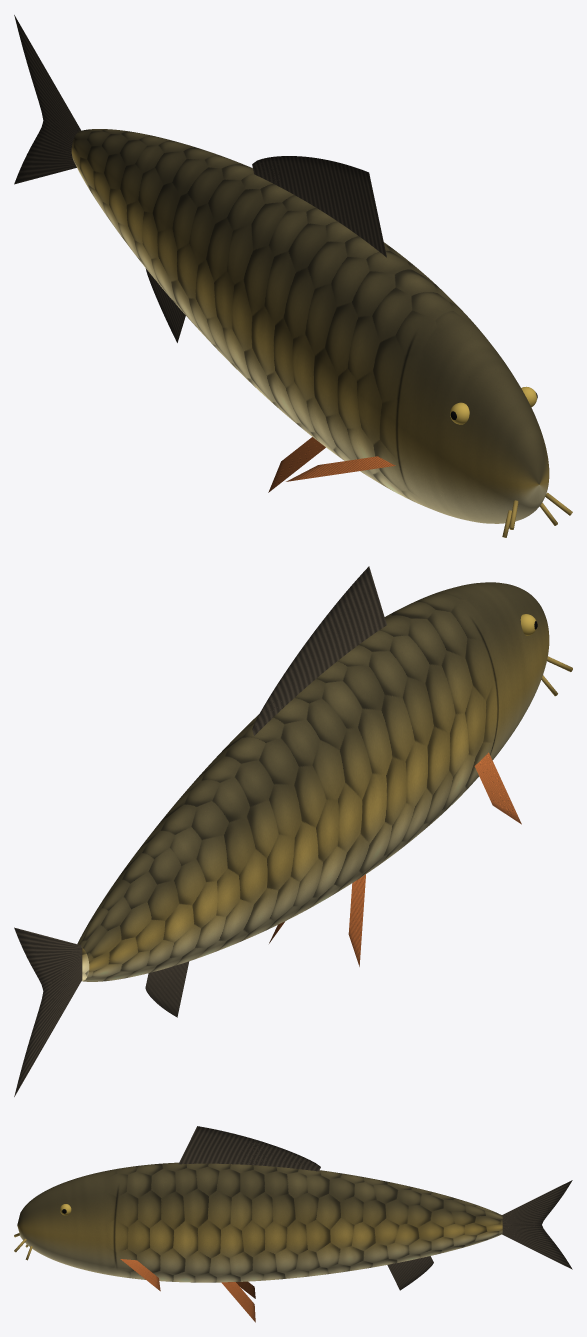
File: sazan.obj
The picture shows the model from 3 angles, top to bottom: view 1: azimuth 30°, elevation 25°; view 2: azimuth 150°, elevation 25°; view 3: azimuth 270°, elevation 25°; orthographic projection. The views are drawn at different scales.
Parts seen in each view (by area): view 1: body, fin_dorsal0, fin_tail, fin_pect_R, fin_pelv_R, fin_anal0; view 2: body, fin_dorsal0, fin_tail, fin_anal0, fin_pect_R, fin_pelv_R; view 3: body, fin_dorsal0, fin_tail, fin_anal0, fin_pelv_L, fin_pect_L.
Part boxes in pixels (x1,y1,x2,y2): body: (71, 129, 549, 523); fin_dorsal0: (252, 156, 386, 257); fin_tail: (14, 15, 80, 184); fin_pect_R: (286, 456, 395, 481); fin_pelv_R: (268, 437, 325, 492); fin_anal0: (145, 268, 185, 342); body: (77, 582, 549, 981); fin_dorsal0: (252, 566, 386, 735); fin_tail: (14, 927, 82, 1096); fin_anal0: (145, 961, 189, 1017); fin_pect_R: (474, 752, 521, 824); fin_pelv_R: (348, 874, 365, 966); body: (17, 1162, 502, 1282); fin_dorsal0: (178, 1126, 320, 1171); fin_tail: (502, 1180, 572, 1269); fin_anal0: (387, 1256, 433, 1290); fin_pelv_L: (221, 1282, 255, 1322); fin_pect_L: (120, 1259, 160, 1291).
Bounding box in the file's own units: 0.1423 × 0.2009 × 0.55.
Materials: 6 (3 with a texture image).
